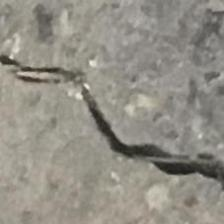Crack: (0, 39, 224, 216)
